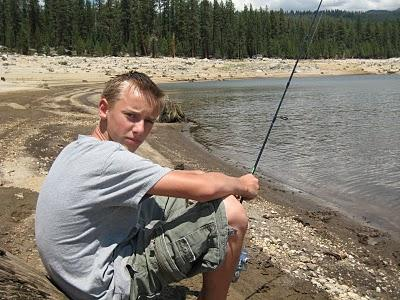person: (36, 72, 261, 300)
